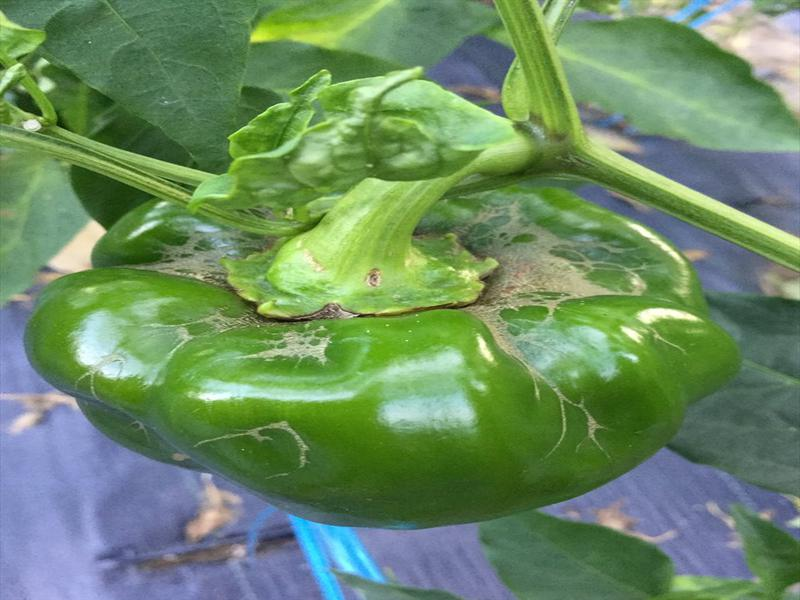Thrips: (134, 211, 633, 430)
